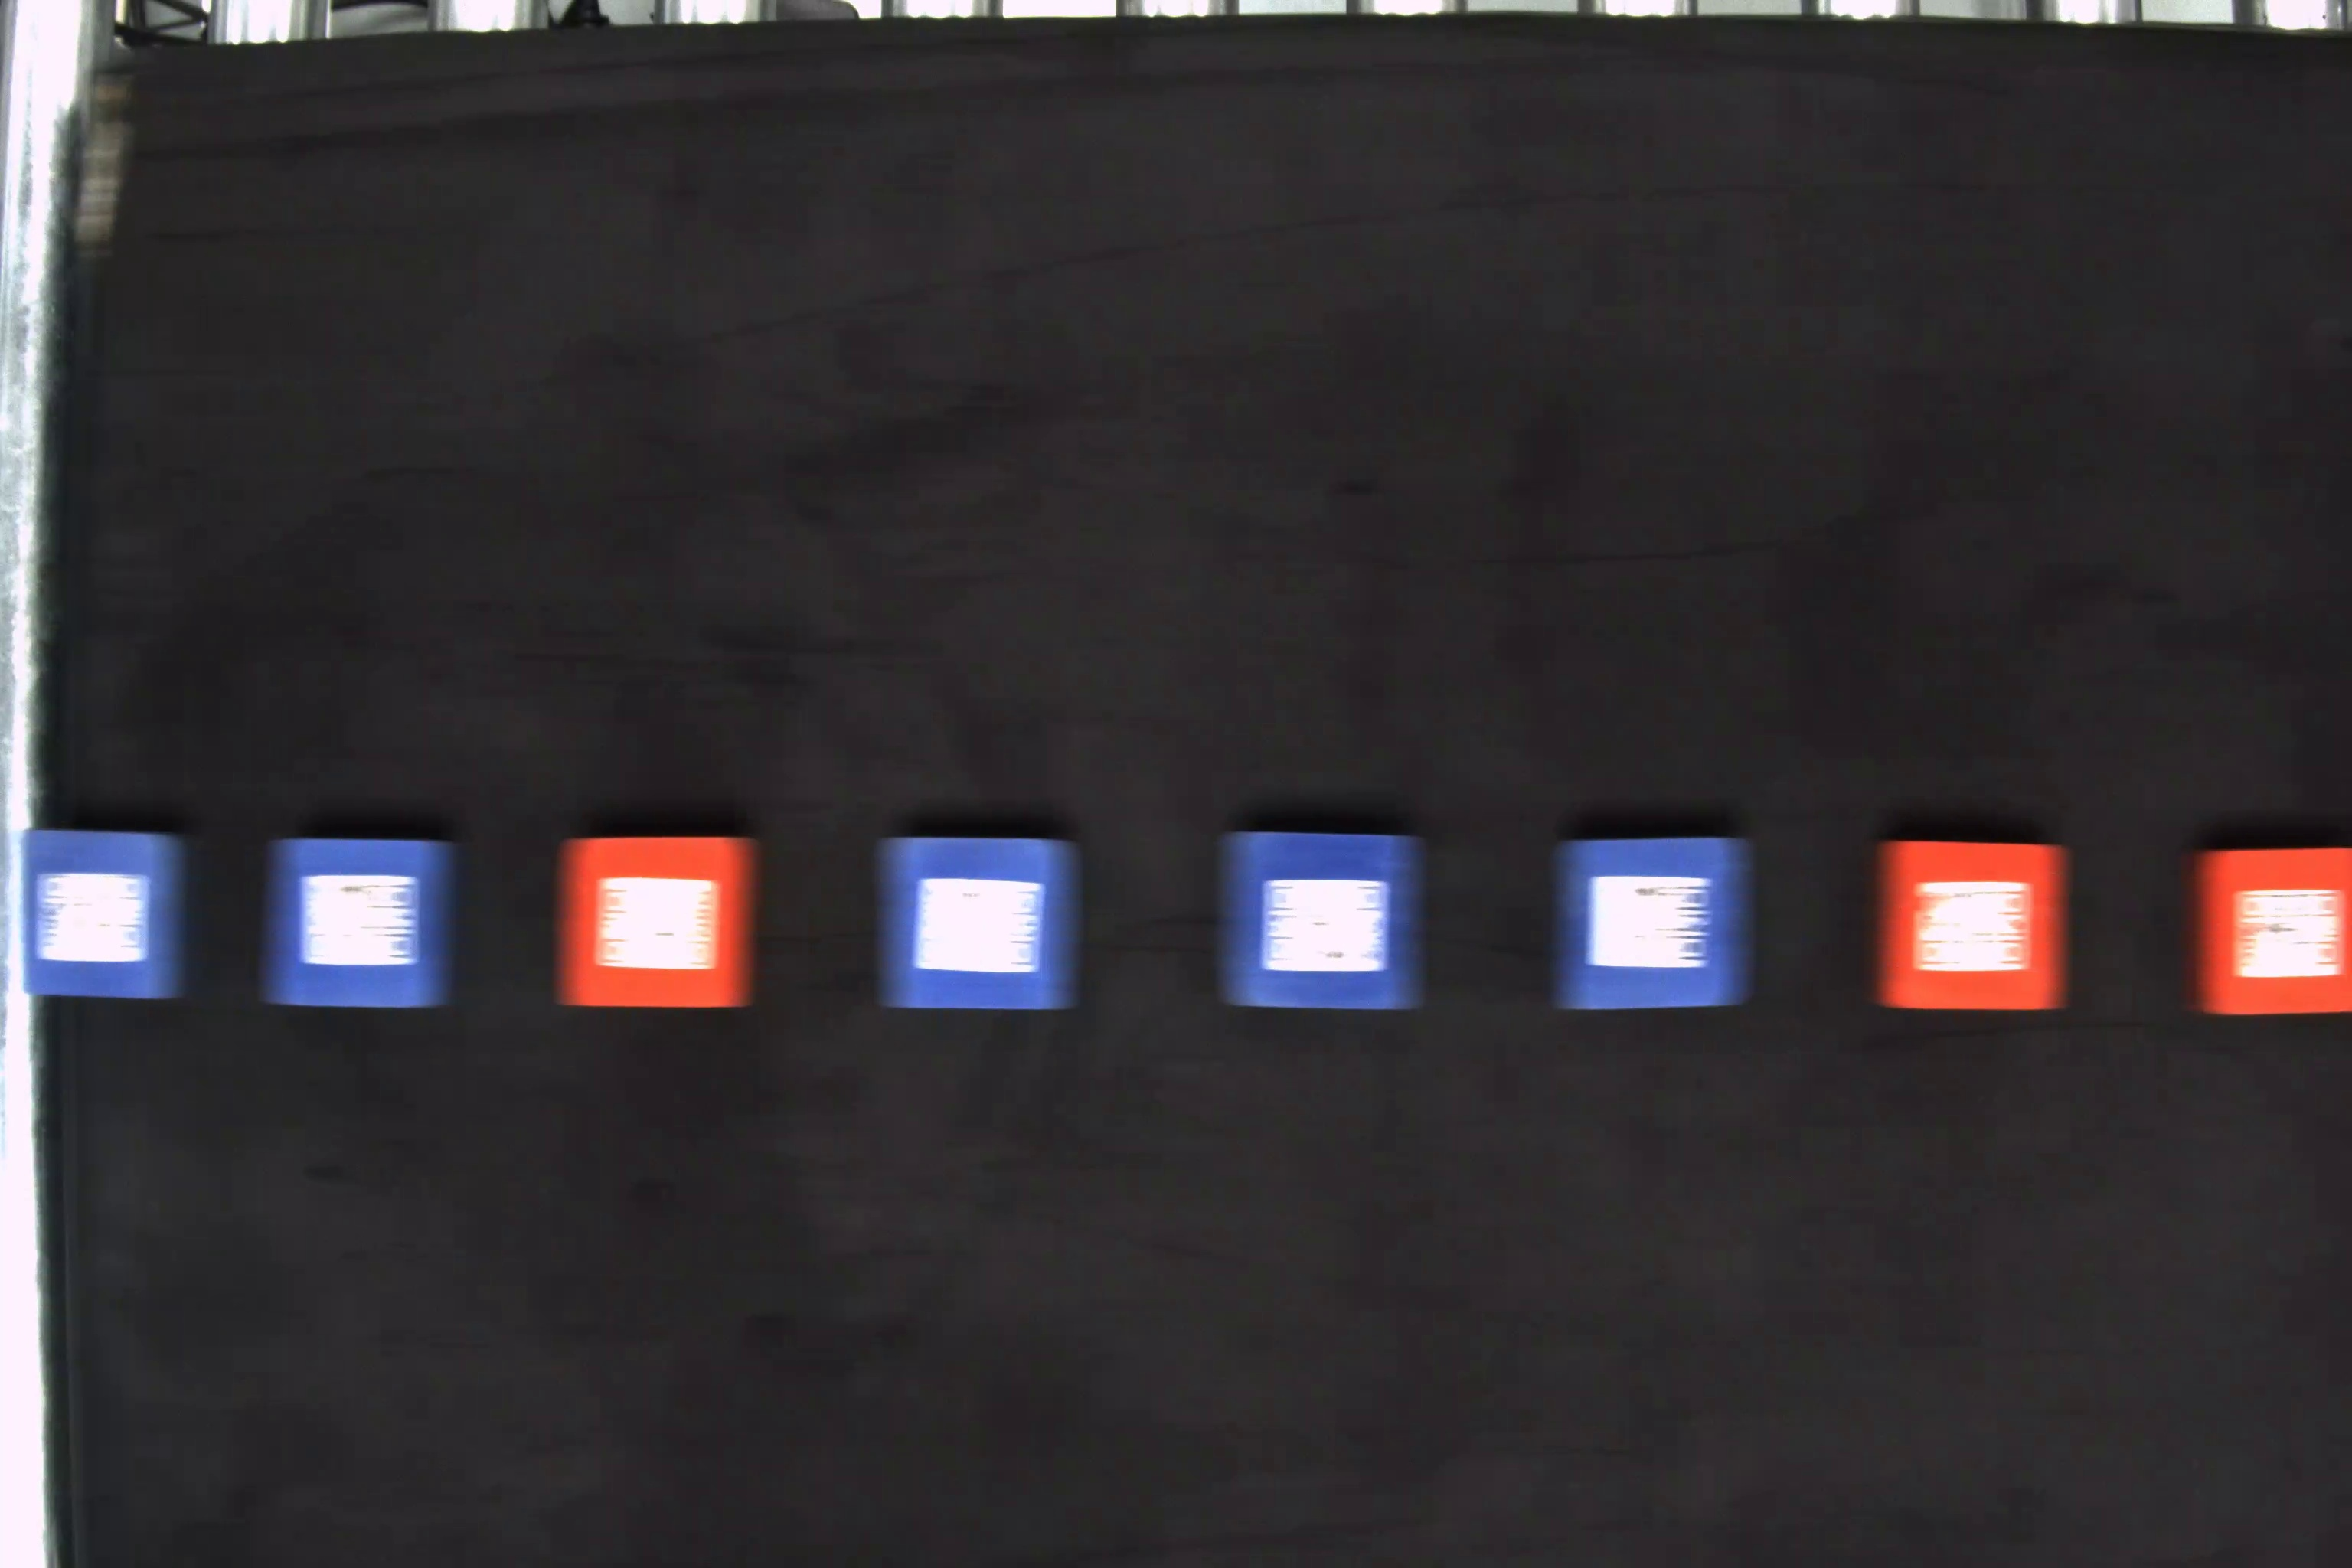wood: (1220, 824, 1421, 1013), (875, 836, 1085, 1017), (1549, 842, 1760, 1013), (1874, 835, 2070, 1015), (551, 836, 752, 1003), (262, 835, 455, 1008), (19, 824, 191, 1001), (2189, 849, 2352, 1025)
